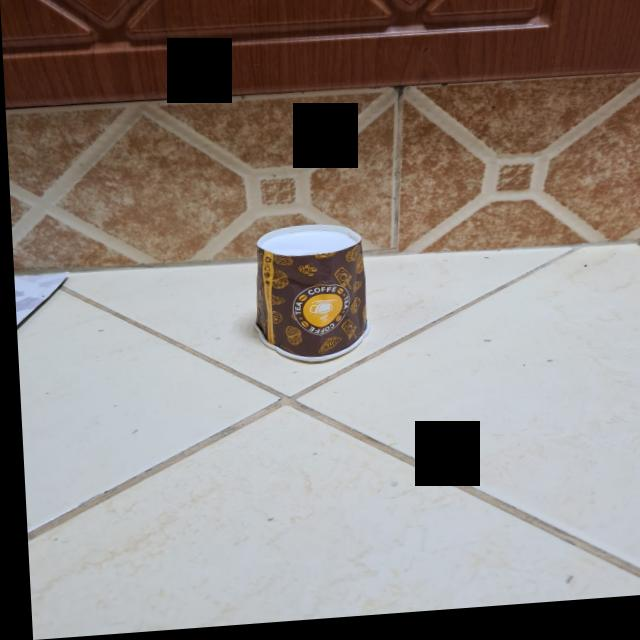cups: (242, 224, 379, 369)
